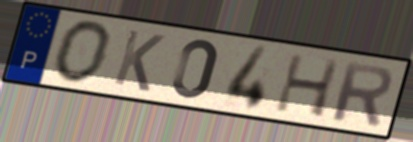0: (170, 38, 221, 101)
4: (222, 43, 271, 114)
H: (272, 51, 344, 120)
K: (110, 27, 168, 95)
O: (51, 18, 116, 86)
R: (329, 58, 395, 128)
